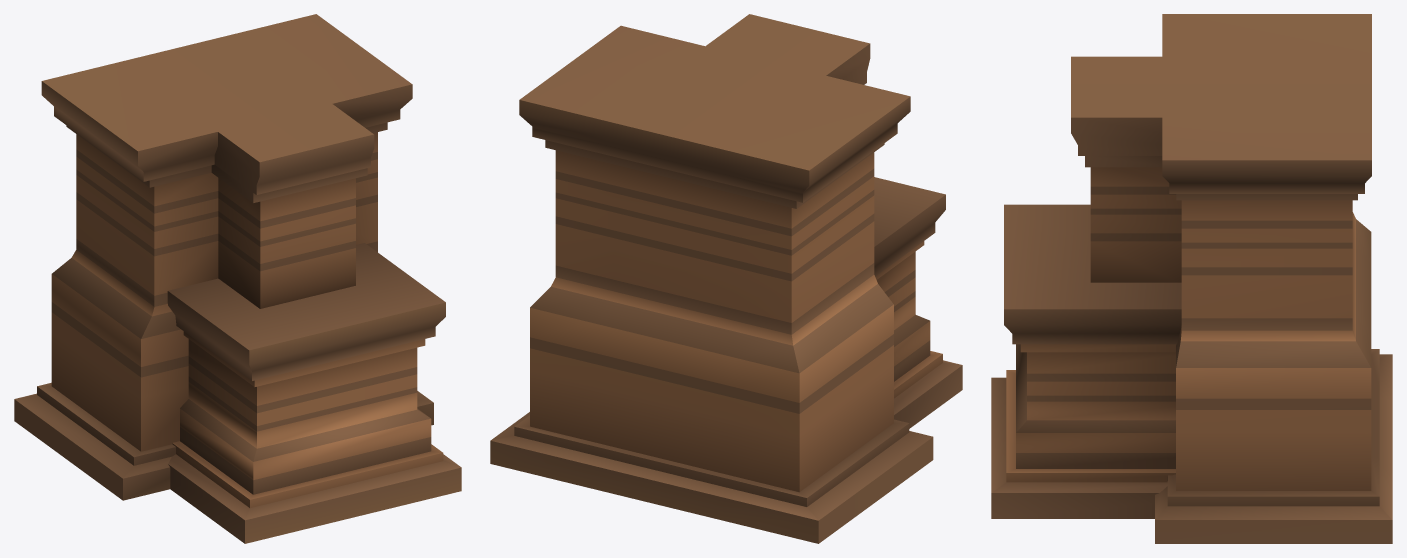
File: Ruins_TempleRuins_alt06.glb
3 views of the same model, side by side, from view 1: azimuth 30°, elevation 25°; view 2: azimuth 150°, elevation 25°; view 3: azimuth 270°, elevation 25° (orthographic). The views are drawn at different scales.
Visible parts, largest first — view 1: base162; view 2: base162; view 3: base162.
Boxes of the visible parts, left/top/right/bottom form: base162: left=14, top=14, right=461, bottom=543; base162: left=490, top=14, right=962, bottom=543; base162: left=991, top=14, right=1392, bottom=543.
Bounding box in the file's own units: 8.12 × 8.54 × 8.3.
